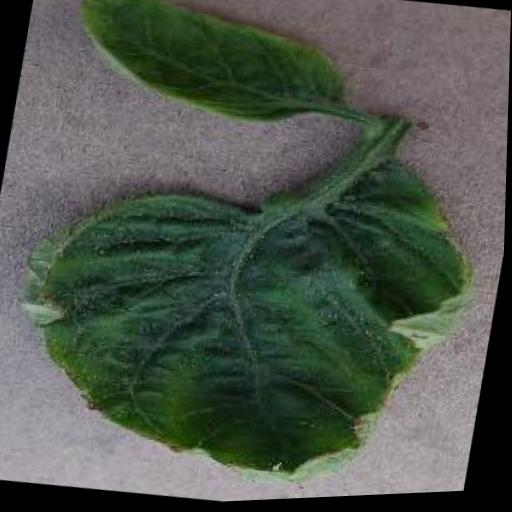Yellow Leaf Curl Virus: (0, 110, 491, 512), (64, 0, 356, 147)
